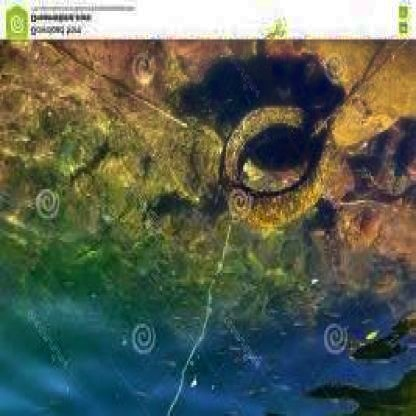tire: (221, 88, 348, 249)
